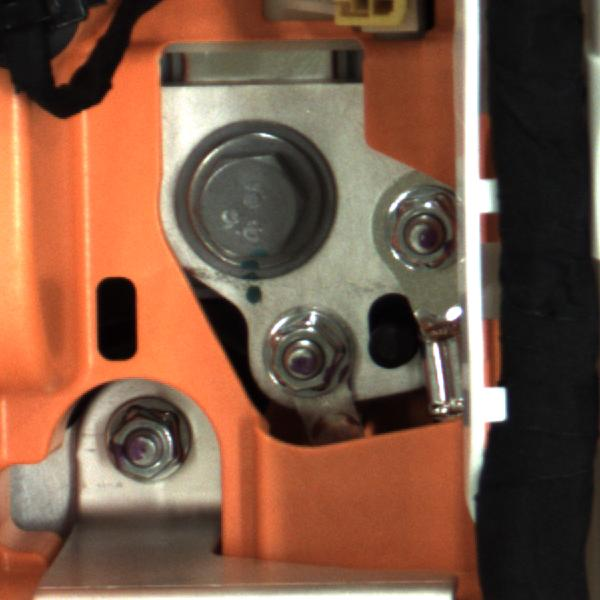nut_b: (162, 103, 341, 282)
screw_s: (250, 309, 350, 404), (97, 399, 190, 497), (367, 187, 470, 274)
